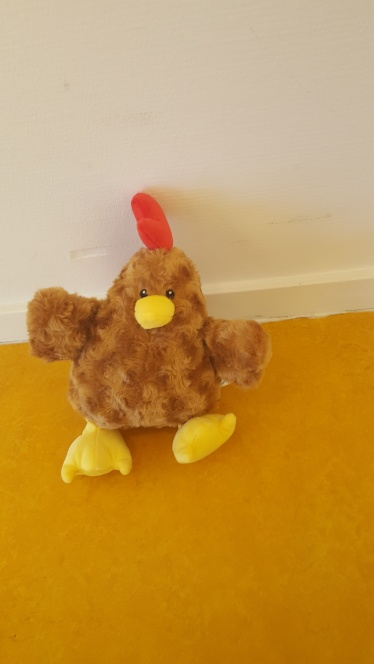chicken_front: (28, 193, 270, 484)
